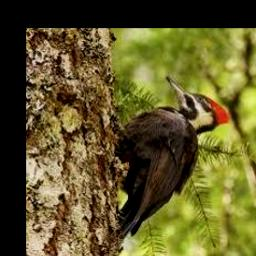Woodpecker: (114, 75, 230, 240)
